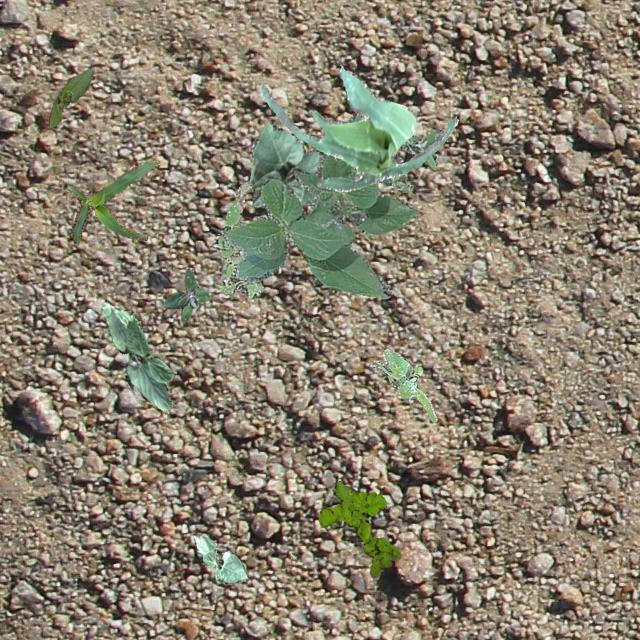crop: (218, 150, 416, 298), (258, 64, 458, 190), (100, 300, 172, 410), (65, 160, 158, 243), (248, 120, 320, 207), (192, 534, 246, 582), (48, 68, 92, 126)
weed: (318, 479, 399, 576), (348, 110, 443, 192), (212, 180, 262, 298), (370, 348, 436, 420), (162, 266, 210, 321)
